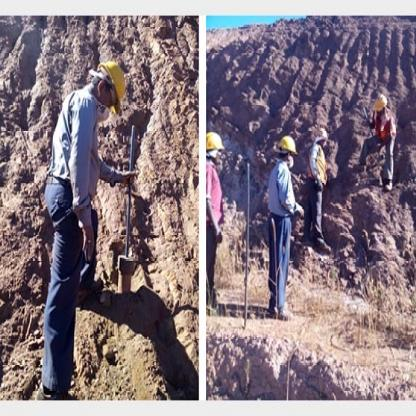person: (34, 52, 139, 398), (253, 114, 298, 326), (352, 78, 400, 209), (204, 124, 231, 318), (300, 106, 332, 265)
